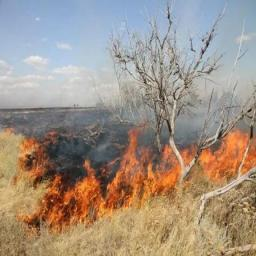Low smoke: (12, 84, 252, 154)
Medium fire: (25, 143, 256, 224)
